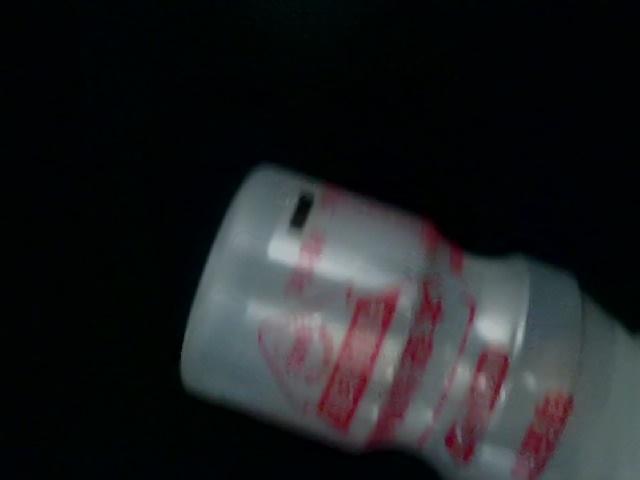CYLJ: (255, 293, 626, 480)
